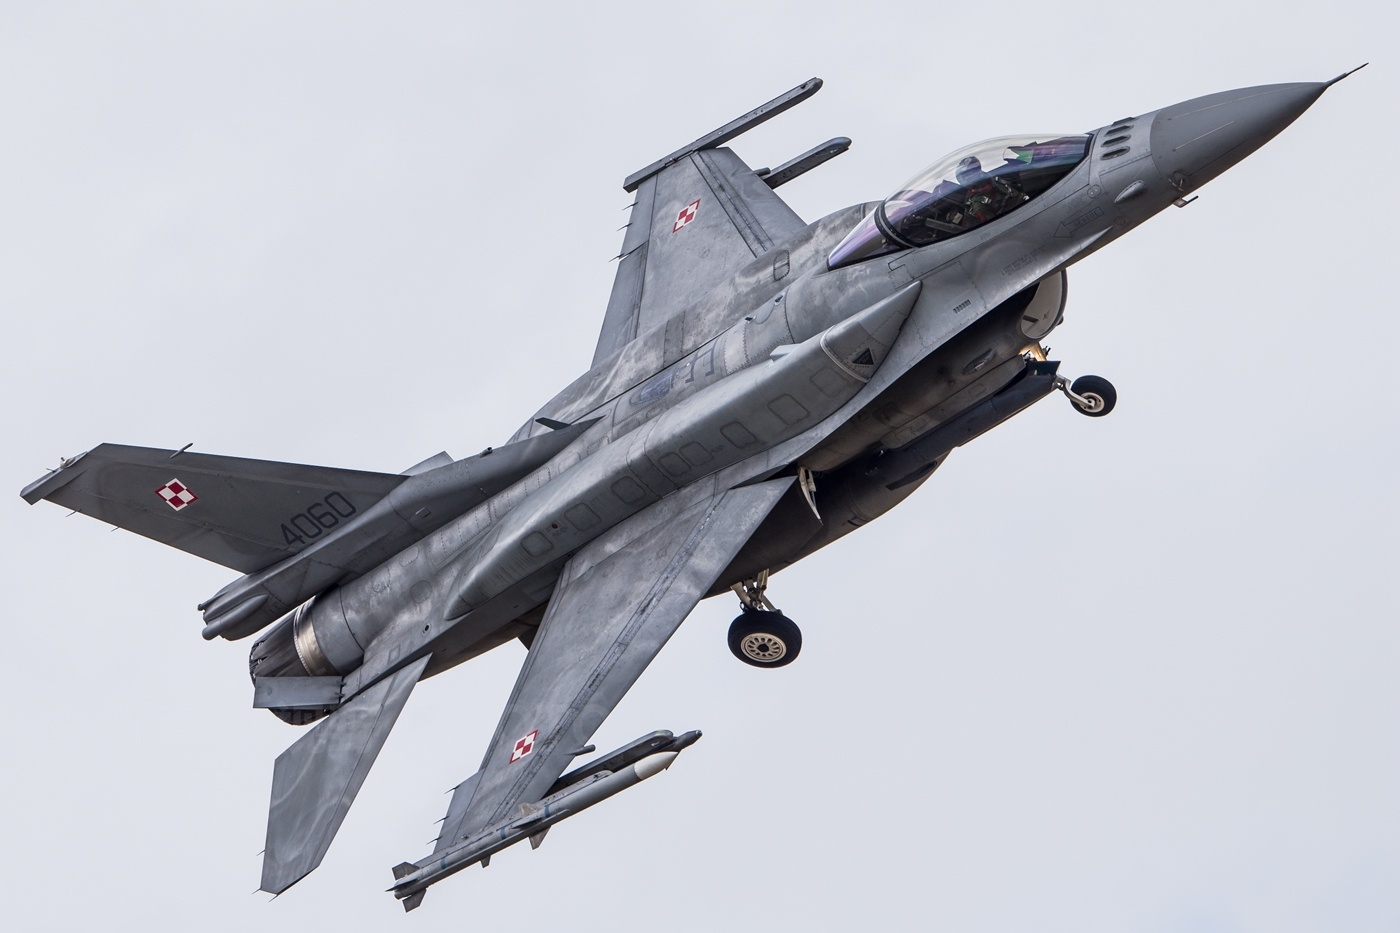airplane: (15, 45, 1388, 899)
